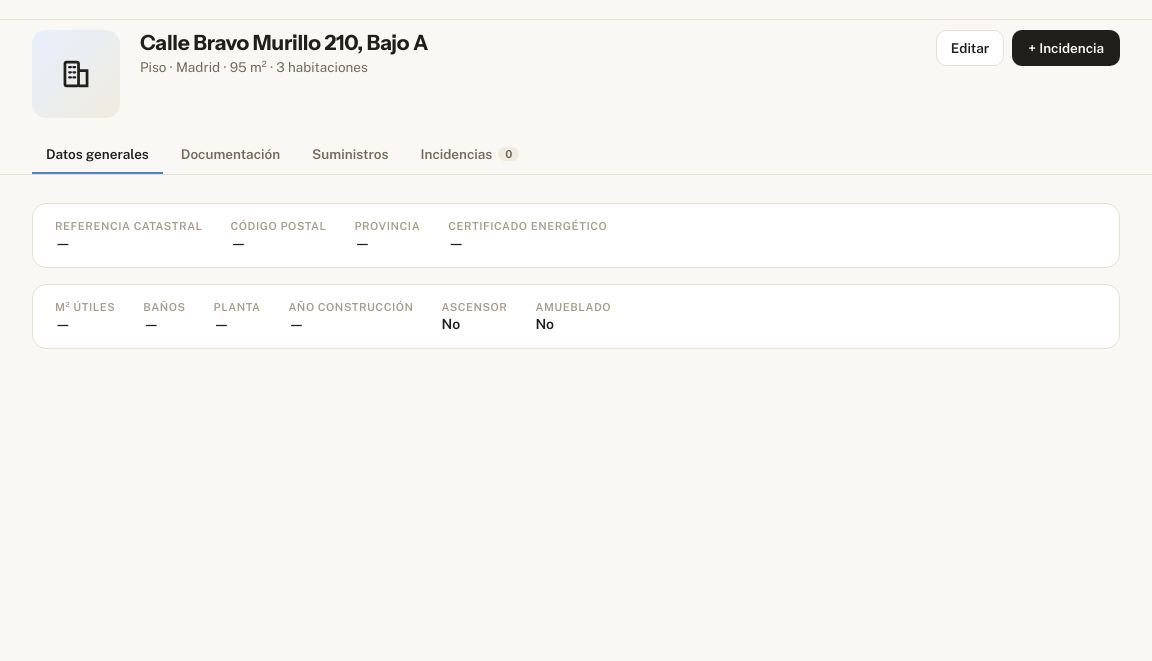
Test: InmueblesFicha — Incidencias › el contador del tab se actualiza al crear una incidencia, sin recargar
Expected: the heading "Calle Bravo Murillo 210, Bajo A" is shown, [140,30,428,55]
Step 1. Click the button "Incidencias 0" → {"x": 470, "y": 155}, box [406,136,533,174]
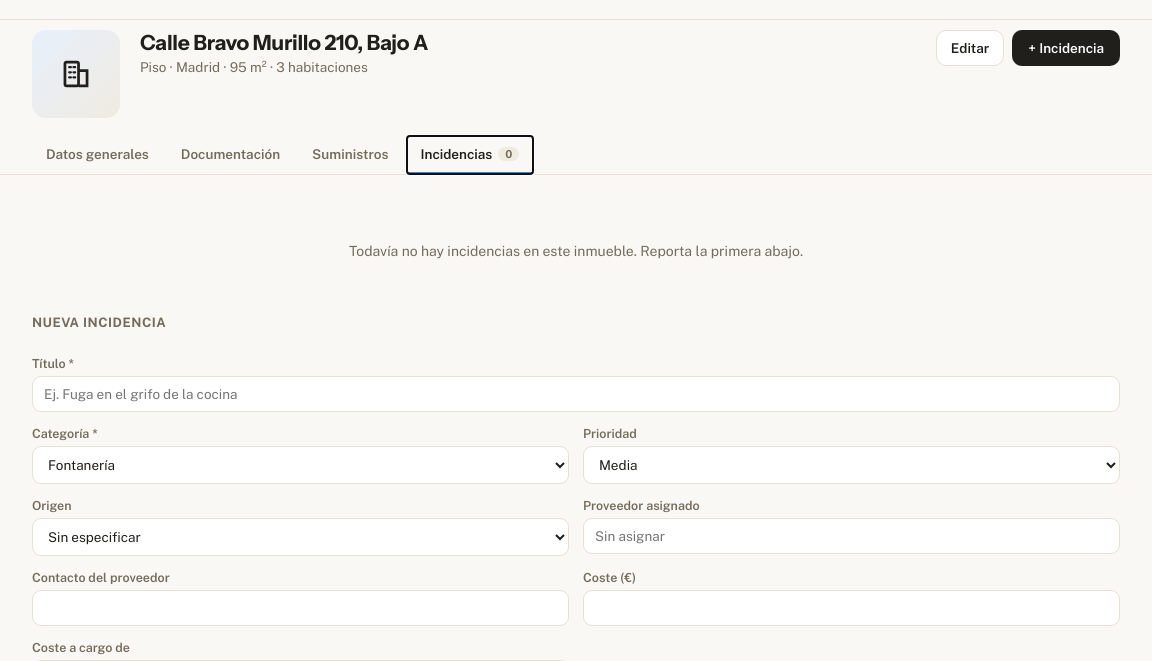
Step 2. Type "Persiana atascada" into the field labelled "Título *" → {"x": 576, "y": 394}, box [32,376,1120,412]
(page scrolled)
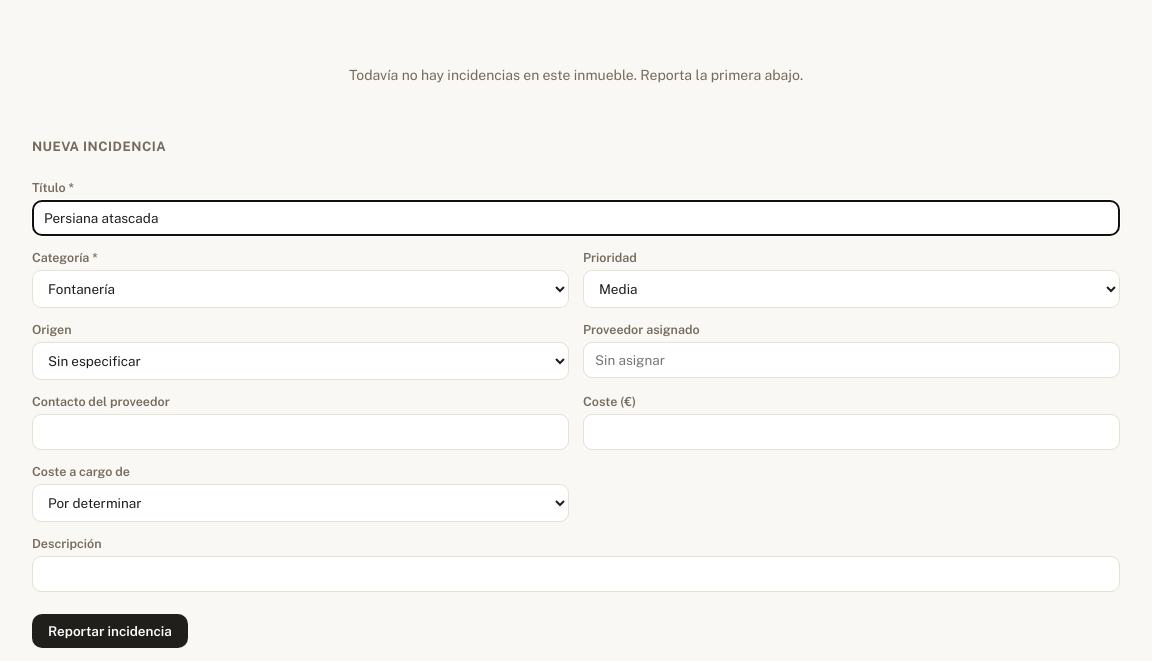
Step 3. Click the button "Reportar incidencia" → {"x": 110, "y": 631}, box [32,614,188,648]
(page scrolled)
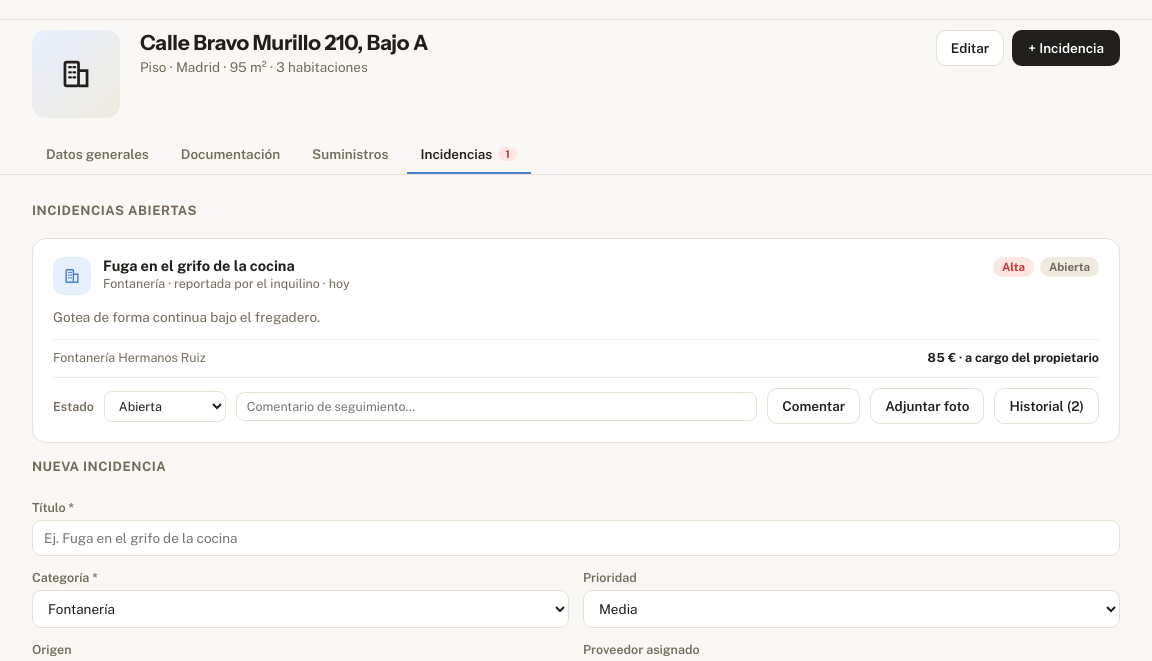
Expected: the button "Incidencias 1" is shown, [406,136,531,174]
